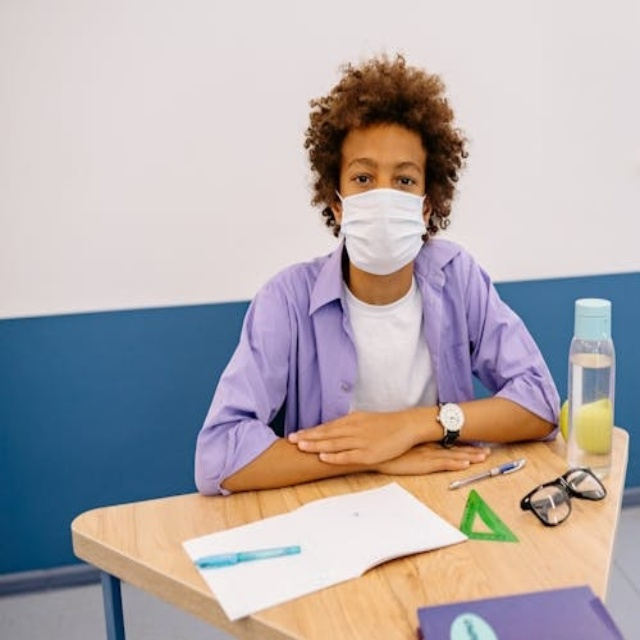Mascara: (336, 187, 428, 274)
Sin_gafas: (342, 154, 425, 189)
Sin_guantes: (285, 409, 402, 470), (401, 435, 490, 480)
